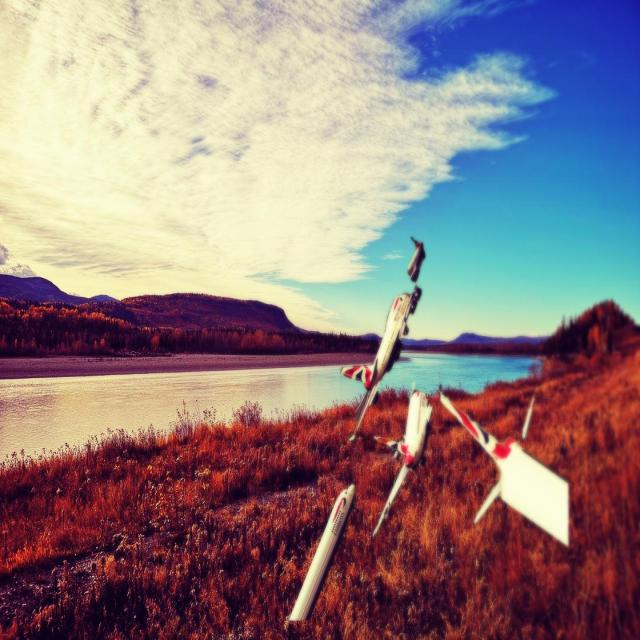airplane: (438, 388, 570, 548), (340, 285, 422, 442), (283, 482, 357, 622), (371, 386, 435, 538)
